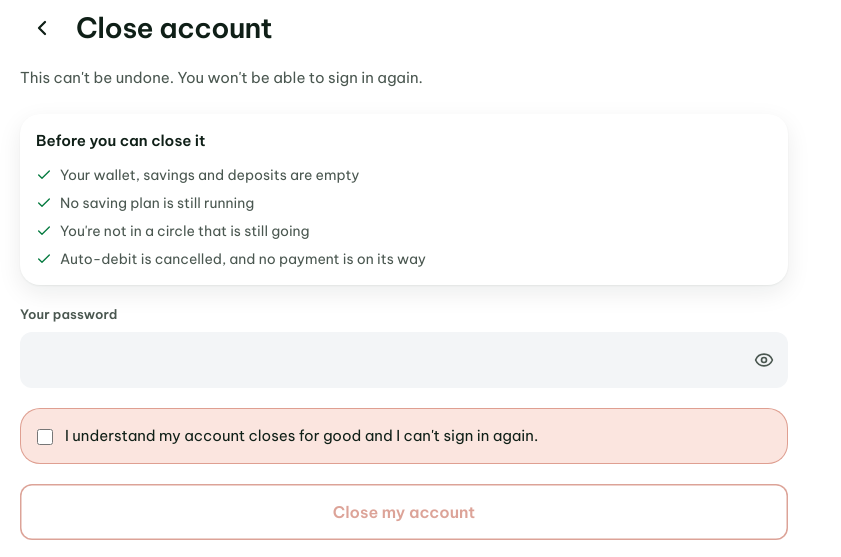
Test case: closing the account › signs this browser out once closed
Type "my password" into the password field labelled "Your password". click: (404, 360)
box: [20, 332, 788, 388]
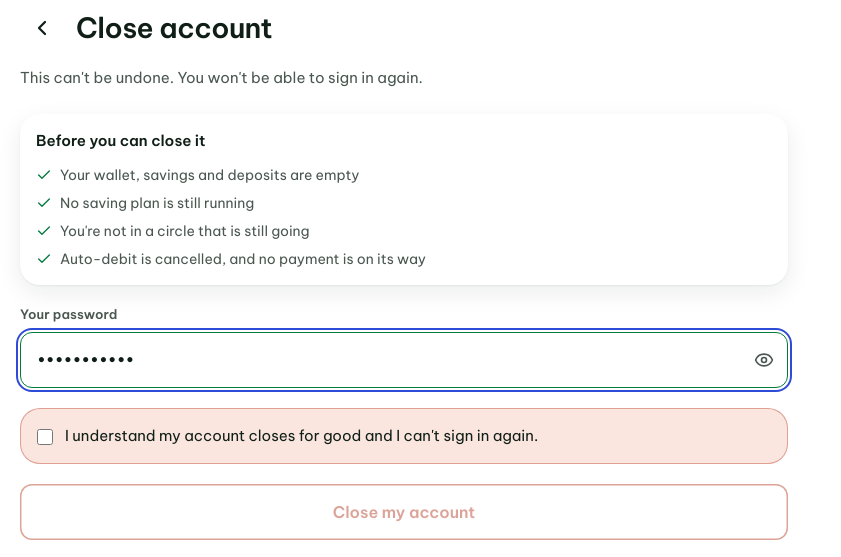
Click the checkbox labelled "closes for good". click: (45, 437)
box: [37, 429, 53, 445]
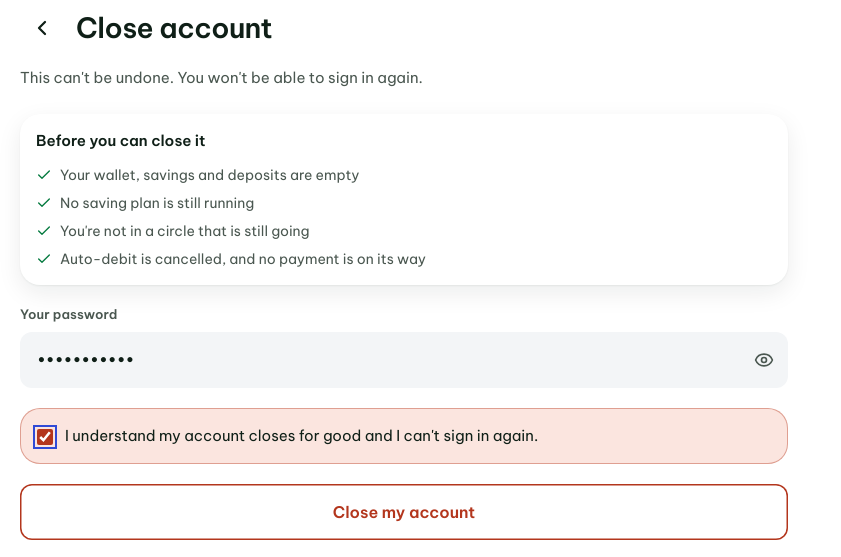
Click the button "Close my account". click: (404, 512)
box: [20, 484, 788, 540]
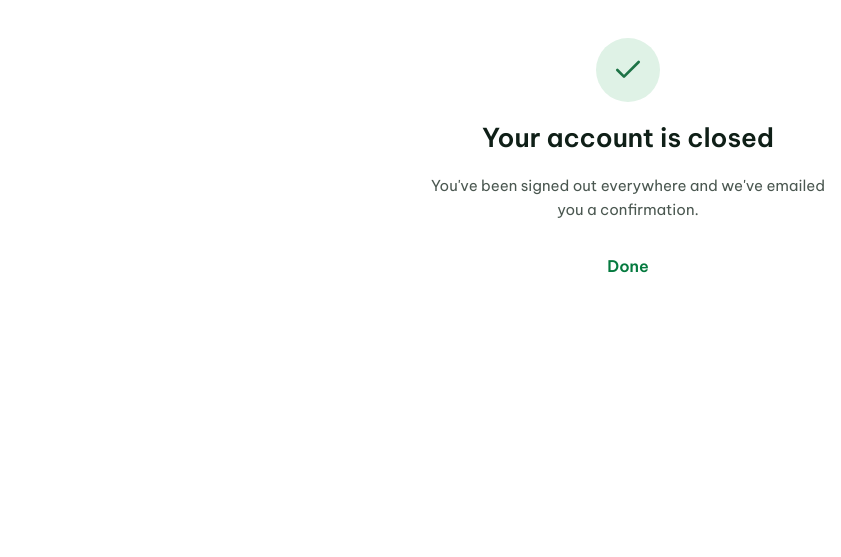
Check: the heading "Your account is closed" is shown, box [482, 121, 774, 154]
